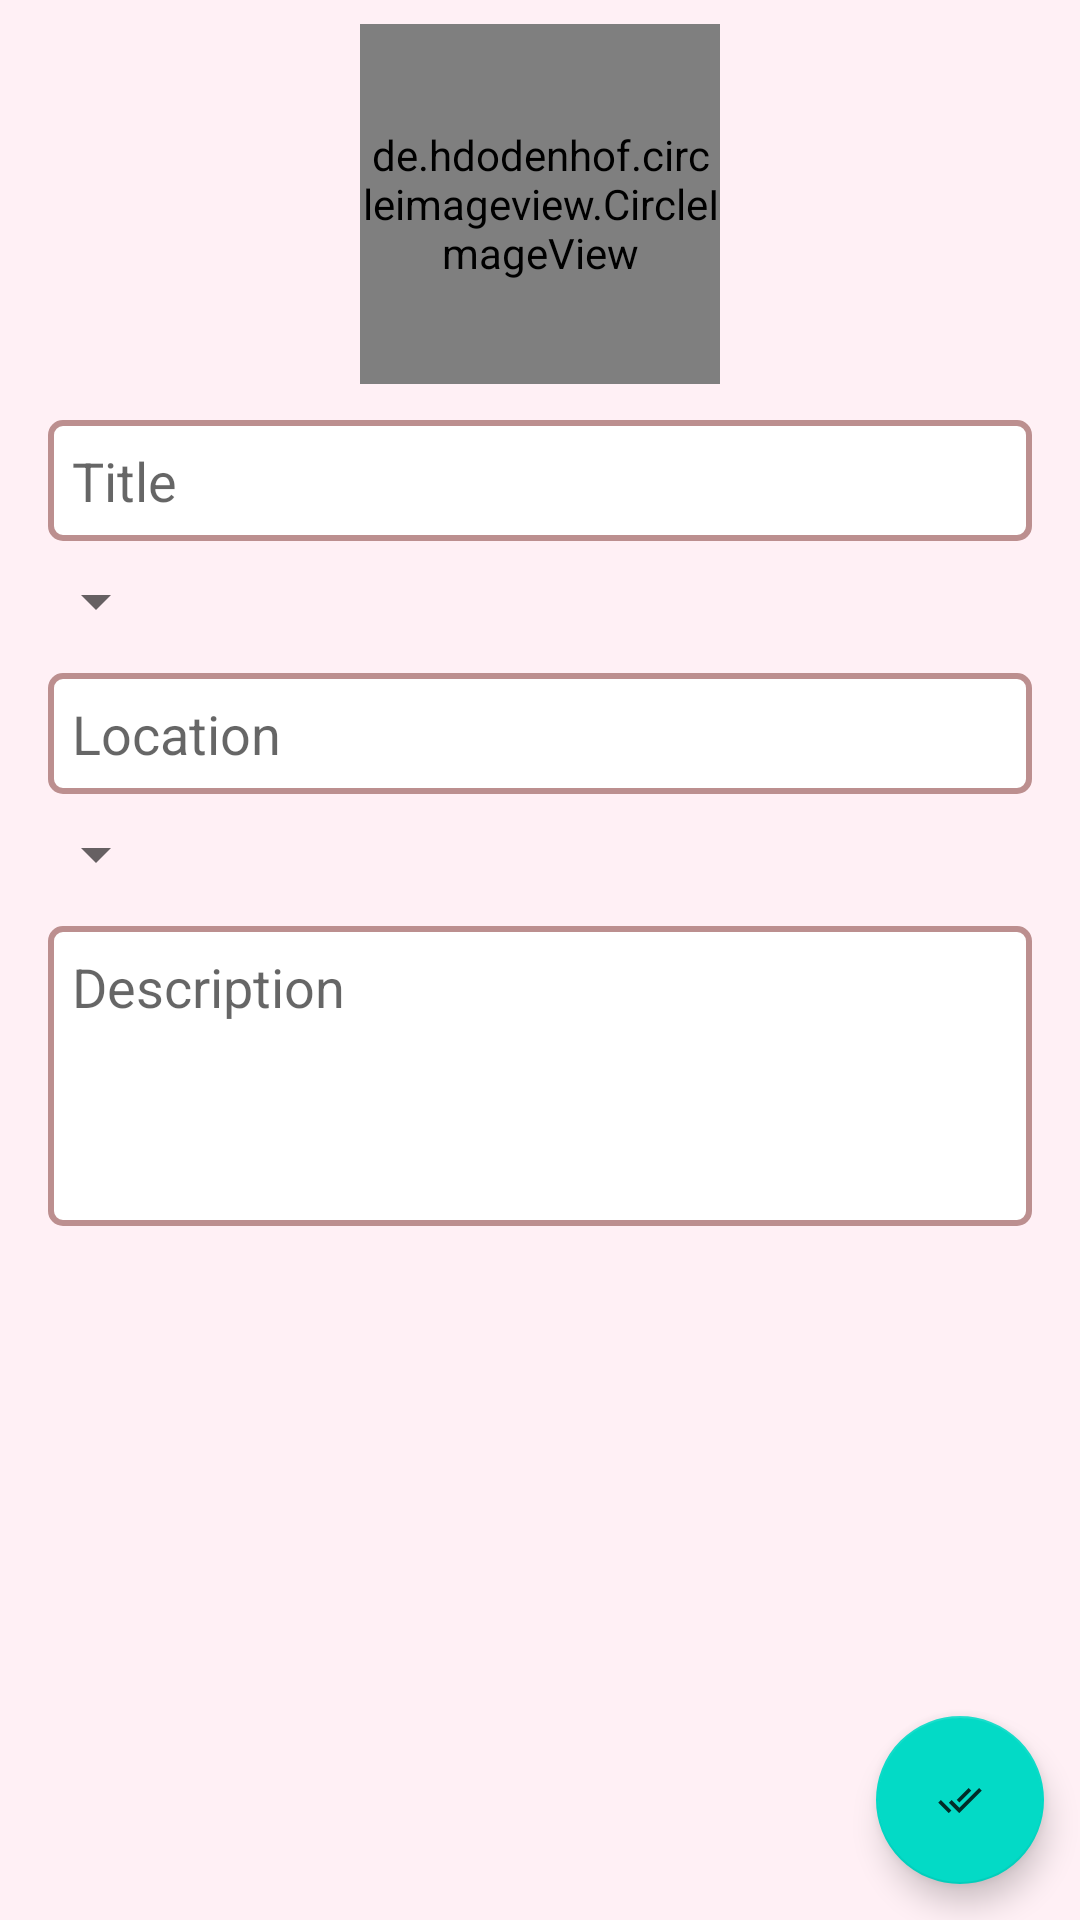

Locate icon controls on the screen. Image size 1080 x 1920, boxes as rect(x1, y1, x2, y2).
done: rect(876, 1716, 1044, 1884)
